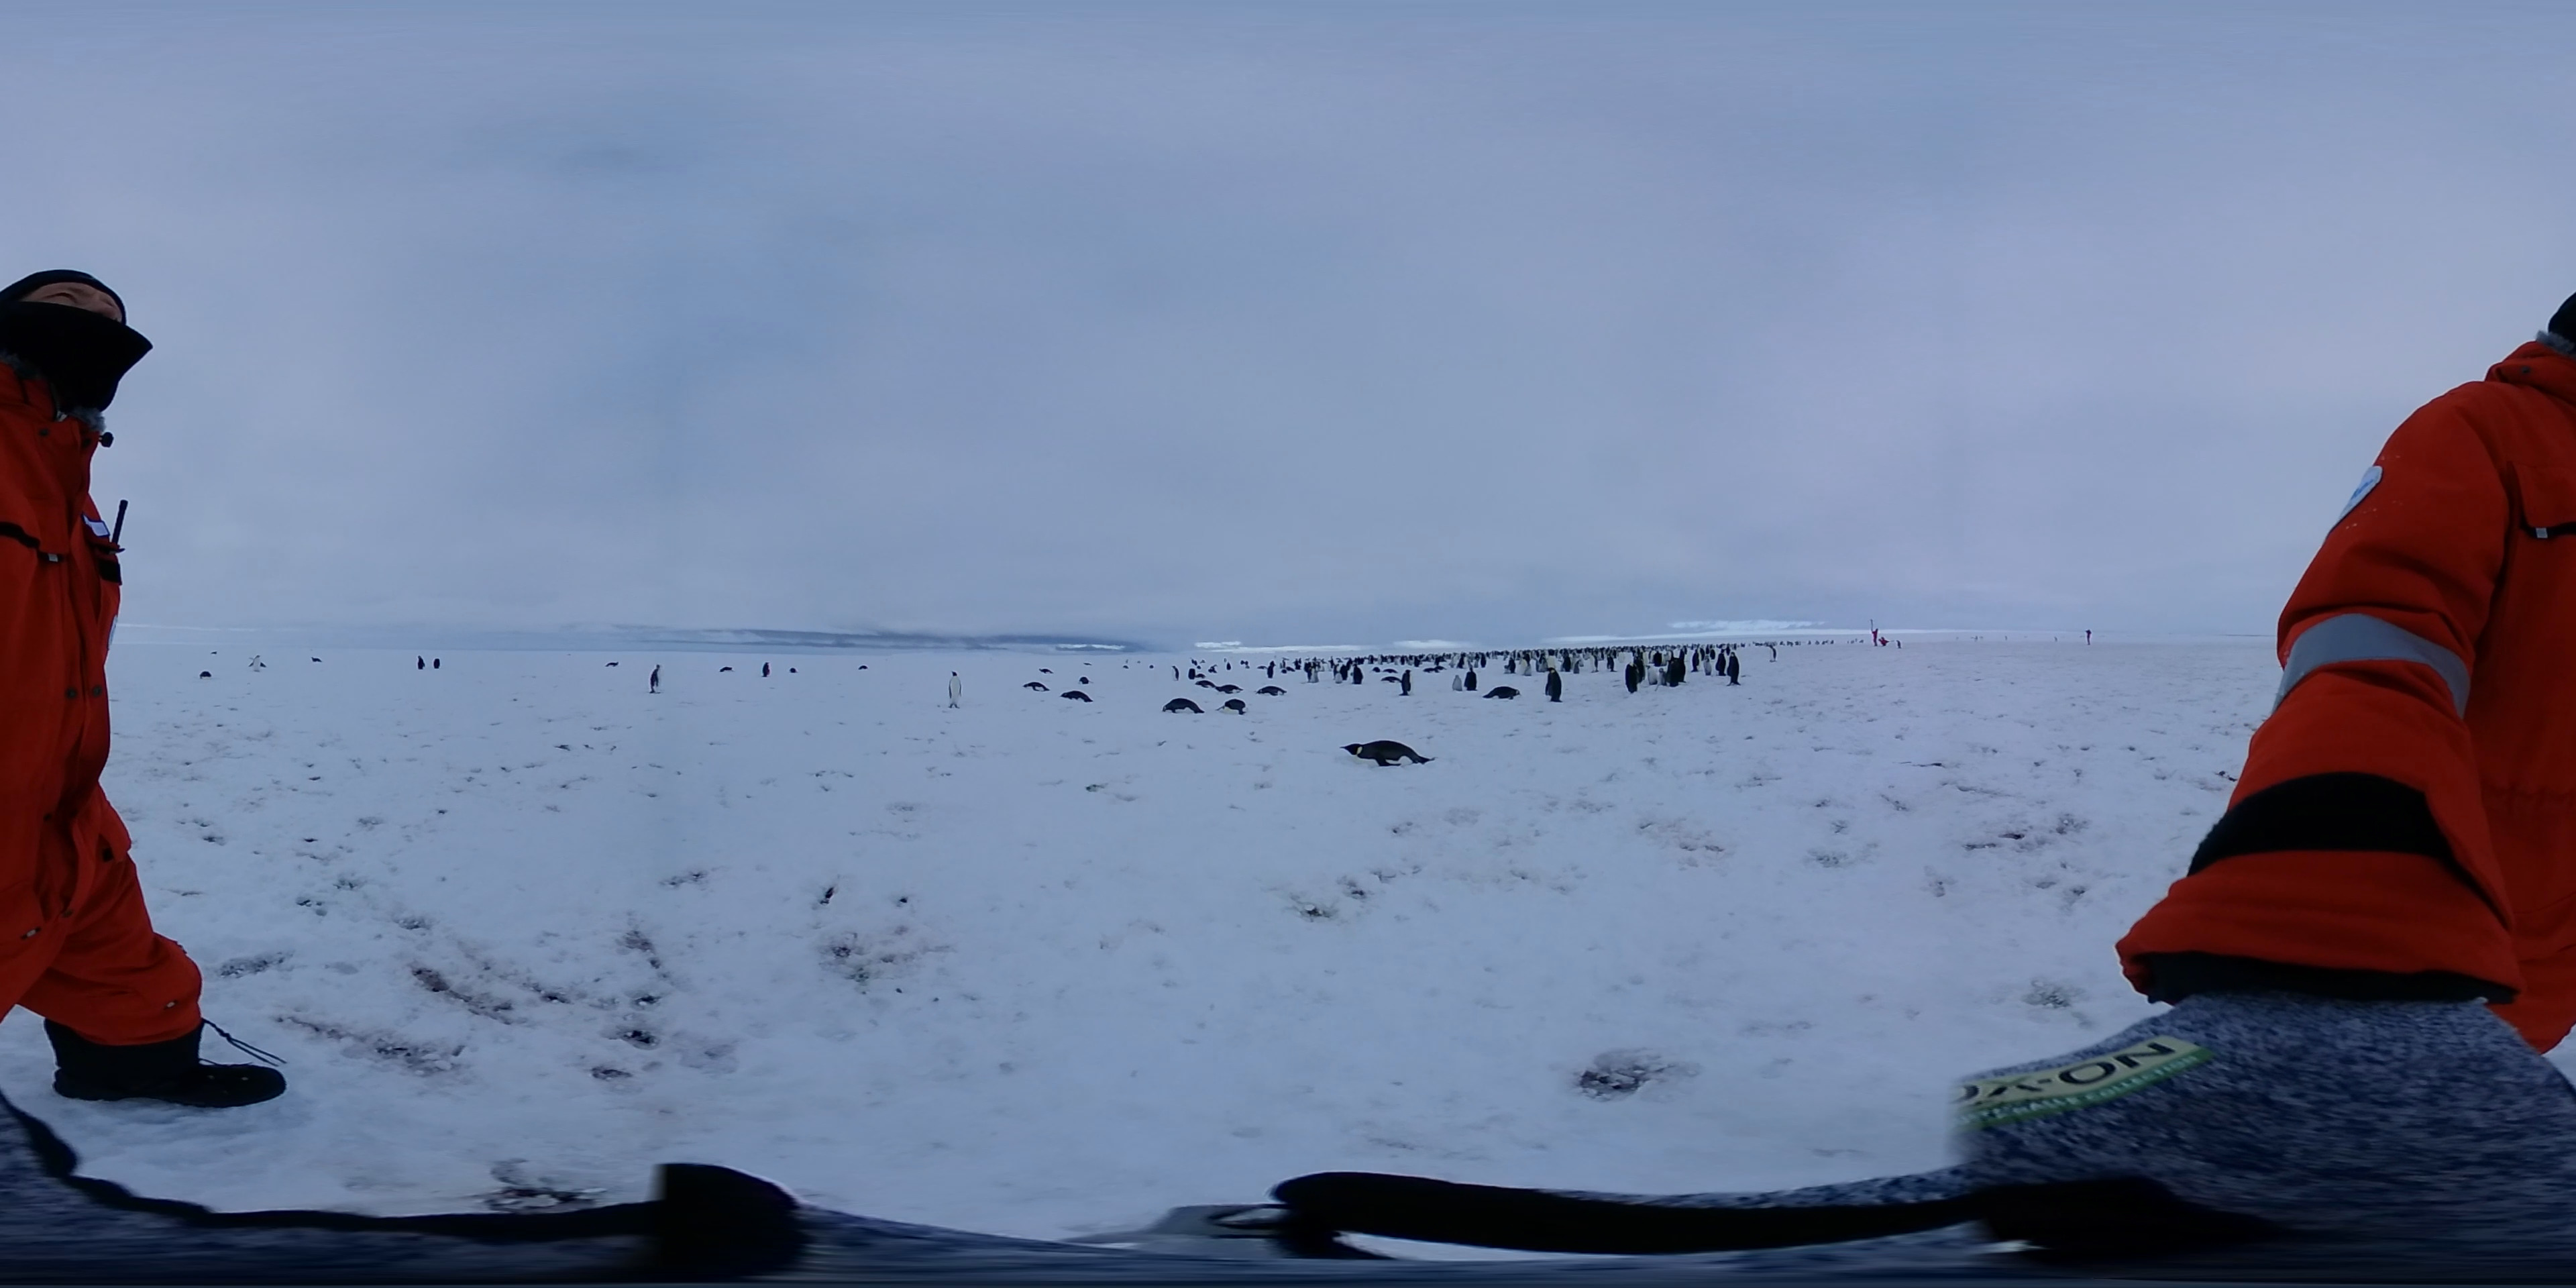adult_standing_penguin: (945, 670, 964, 713), (1543, 665, 1561, 705), (1727, 649, 1743, 687), (1625, 662, 1640, 693), (1462, 665, 1477, 692), (1400, 669, 1413, 697), (1768, 644, 1782, 665)
adult_toboggan_penguin: (1339, 739, 1439, 767), (1158, 698, 1204, 716), (1056, 688, 1094, 706), (1214, 698, 1250, 716), (1480, 687, 1523, 701), (1255, 683, 1286, 698), (1019, 680, 1051, 693)
juvenile_penguin: (1449, 675, 1465, 693)
researcher: (0, 260, 296, 1140)
